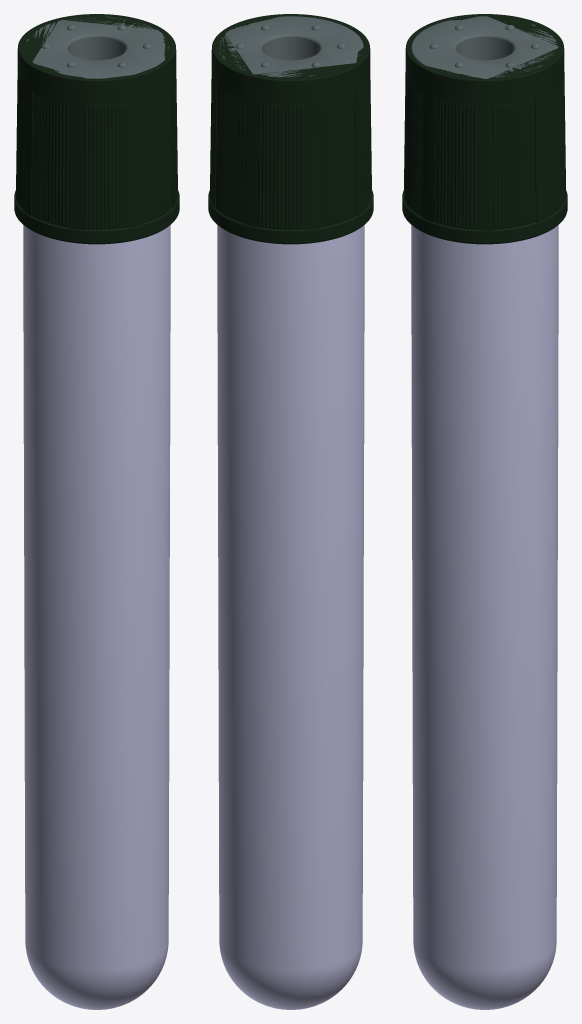
File: TestTube.fbx
3 renders of one model, left to right at view 1: azimuth 30°, elevation 25°; view 2: azimuth 150°, elevation 25°; view 3: azimuth 270°, elevation 25°, orthographic.
Parts seen in each view (by area): view 1: tube, TubeCap, TubeCapCenter; view 2: tube, TubeCap, TubeCapCenter; view 3: tube, TubeCap, TubeCapCenter.
Boxes of the visible parts, x1=… form: tube: x1=23, y1=225, x2=170, y2=1009; TubeCap: x1=14, y1=14, x2=179, y2=244; TubeCapCenter: x1=26, y1=16, x2=168, y2=78; tube: x1=217, y1=225, x2=364, y2=1009; TubeCap: x1=208, y1=14, x2=373, y2=244; TubeCapCenter: x1=218, y1=16, x2=363, y2=77; tube: x1=411, y1=225, x2=558, y2=1009; TubeCap: x1=402, y1=14, x2=567, y2=244; TubeCapCenter: x1=411, y1=16, x2=558, y2=78.
Bounding box in the file's own units: 0.0173 × 0.1105 × 0.0173.
